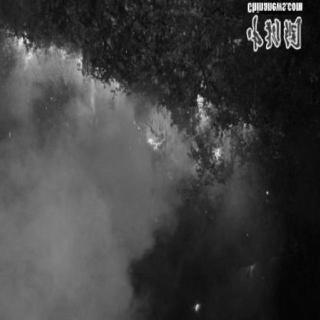Fire: (118, 94, 252, 193), (10, 38, 121, 126)
Smoke: (10, 175, 274, 313)
